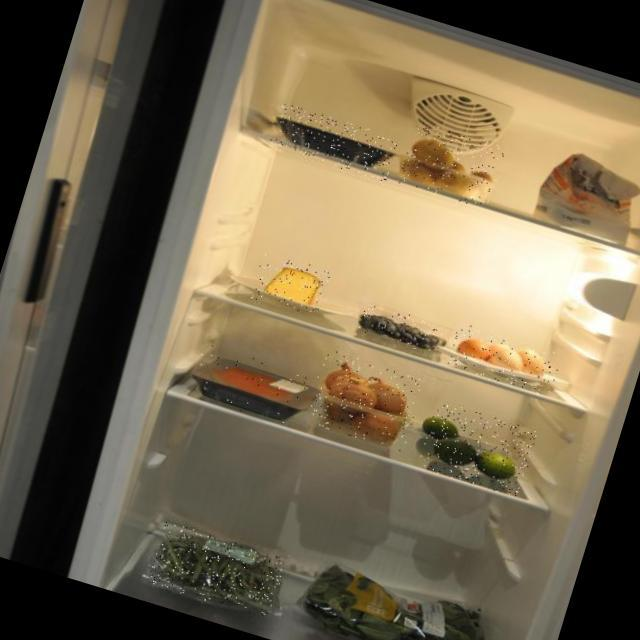Huevos: (446, 322, 563, 398)
Queso: (248, 250, 331, 319)
